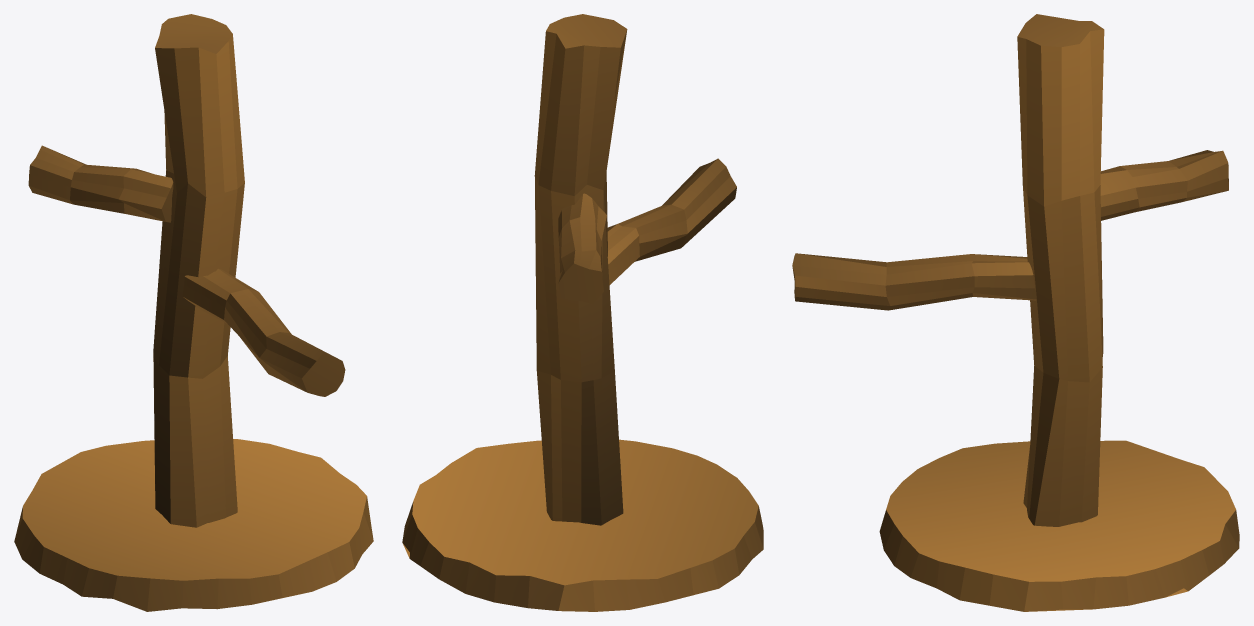
Rendered from Perchoir.glb.
3 views of the same model, side by side, from view 1: azimuth 30°, elevation 25°; view 2: azimuth 150°, elevation 25°; view 3: azimuth 270°, elevation 25° (orthographic).
Parts seen in each view (by area): view 1: Cylinder; view 2: Cylinder; view 3: Cylinder.
Part boxes in pixels (x1,y1,x2,y2): Cylinder: [14, 14, 373, 611]; Cylinder: [402, 14, 763, 611]; Cylinder: [792, 14, 1239, 611].
Bounding box in the file's own units: 0.6733 × 1.06 × 0.8375.
Materials: 1 (1 with a texture image).
